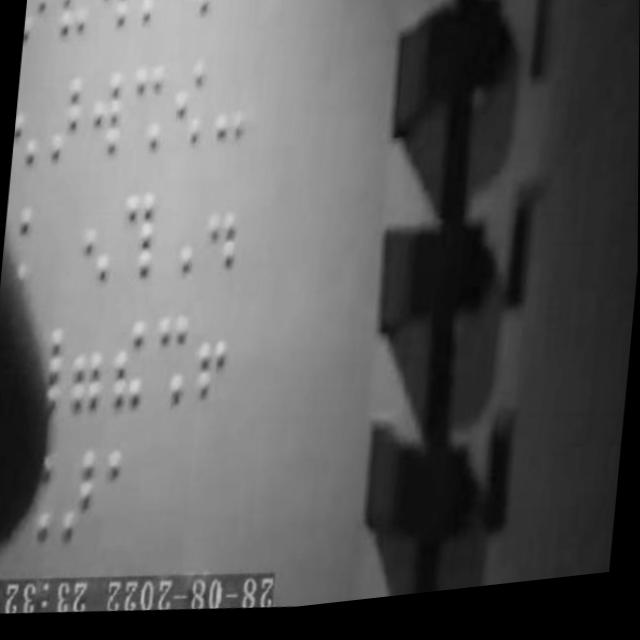braiile: (48, 451, 99, 560), (146, 316, 193, 422), (101, 322, 148, 424), (122, 62, 169, 162), (19, 320, 65, 422), (61, 326, 108, 425), (45, 67, 87, 174), (189, 313, 233, 415), (84, 63, 127, 165), (201, 182, 244, 283), (76, 194, 117, 292), (116, 190, 159, 283), (214, 60, 255, 156), (158, 193, 201, 283), (169, 63, 211, 155), (11, 73, 46, 174), (53, 0, 98, 55), (133, 0, 177, 48), (95, 0, 136, 46), (22, 0, 55, 51)
